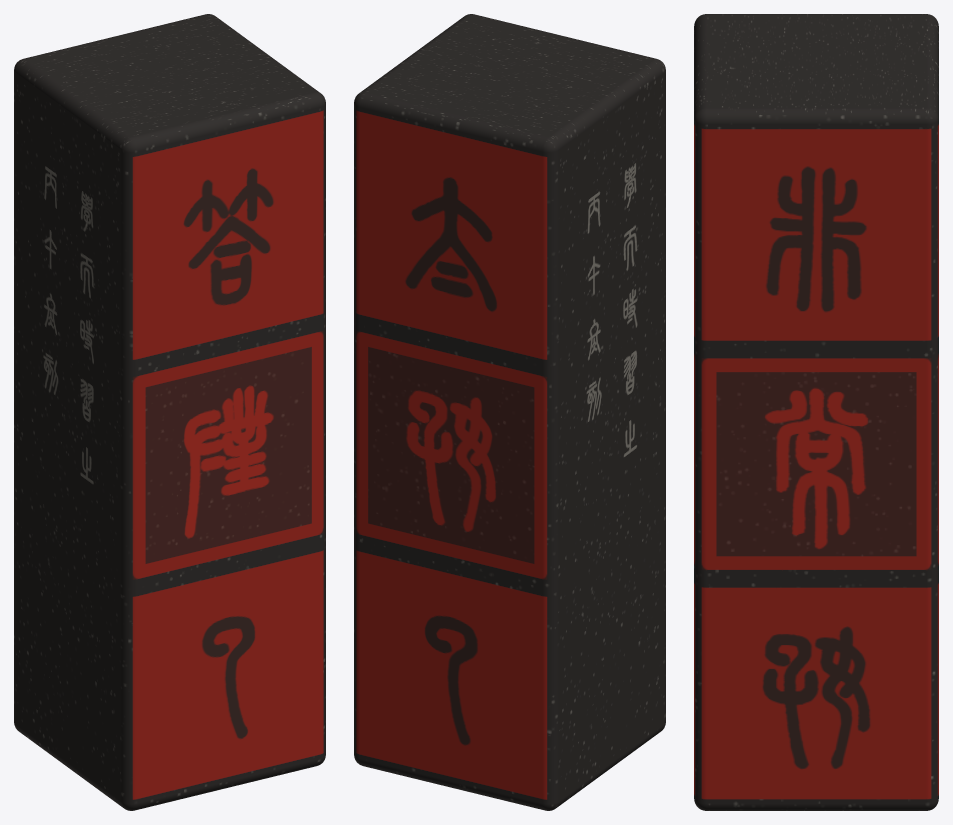
File: sello.glb
3 renders of one model, left to right at view 1: azimuth 30°, elevation 25°; view 2: azimuth 150°, elevation 25°; view 3: azimuth 270°, elevation 25°, orthographic. The views are drawn at different scales.
Visible parts, largest first — view 1: barra; view 2: barra; view 3: barra.
Boxes of the visible parts, x1,y1,x2,y2 form: barra: (14,14,325,810); barra: (354,14,665,810); barra: (694,14,938,810).
Bounding box in the file's own units: 0.0294 × 0.093 × 0.0294.
6 materials, 6 textured.
